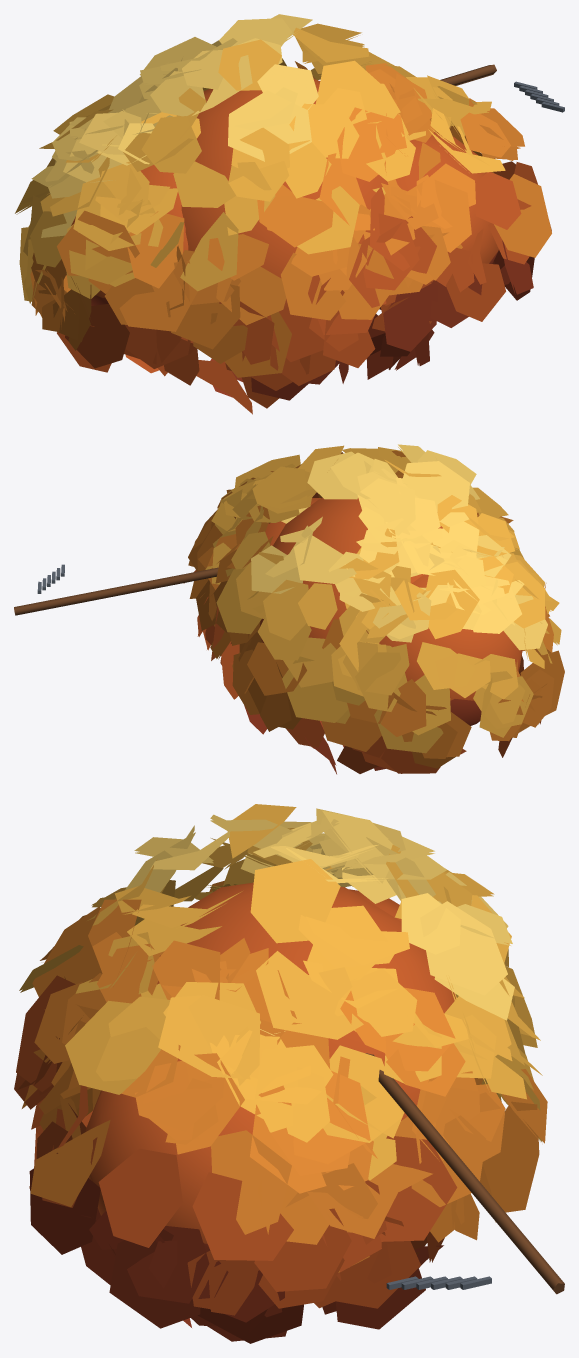
Rendered from LeafPile.glb.
The picture shows the model from 3 angles, top to bottom: view 1: azimuth 30°, elevation 25°; view 2: azimuth 150°, elevation 25°; view 3: azimuth 270°, elevation 25°; orthographic projection. The views are drawn at different scales.
Visible parts, largest first — view 1: Body; view 2: Body; view 3: Body.
Part boxes in pixels (x1=…): Body: x1=15, y1=14, x2=564, y2=414; Body: x1=14, y1=444, x2=564, y2=774; Body: x1=14, y1=804, x2=564, y2=1343.
Size of the model in its own units: 4.59 by 2.85 by 3.
1 material, 1 textured.
